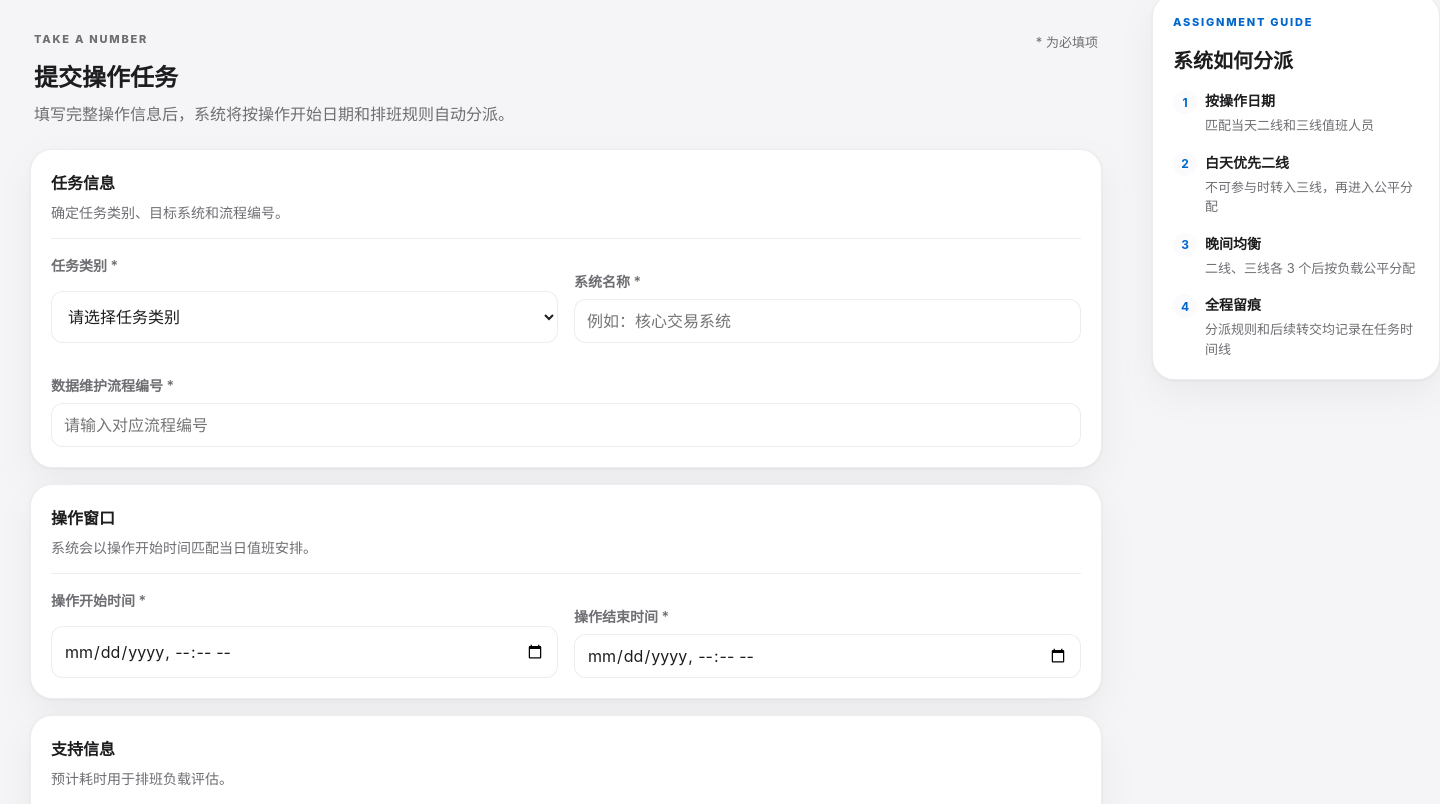
Scenario: TaskCreatePage › requires a process number for data maintenance
Select "数据维护" in the dropdown with test id "category": (304, 317) x1=51 y1=291 x2=558 y2=343
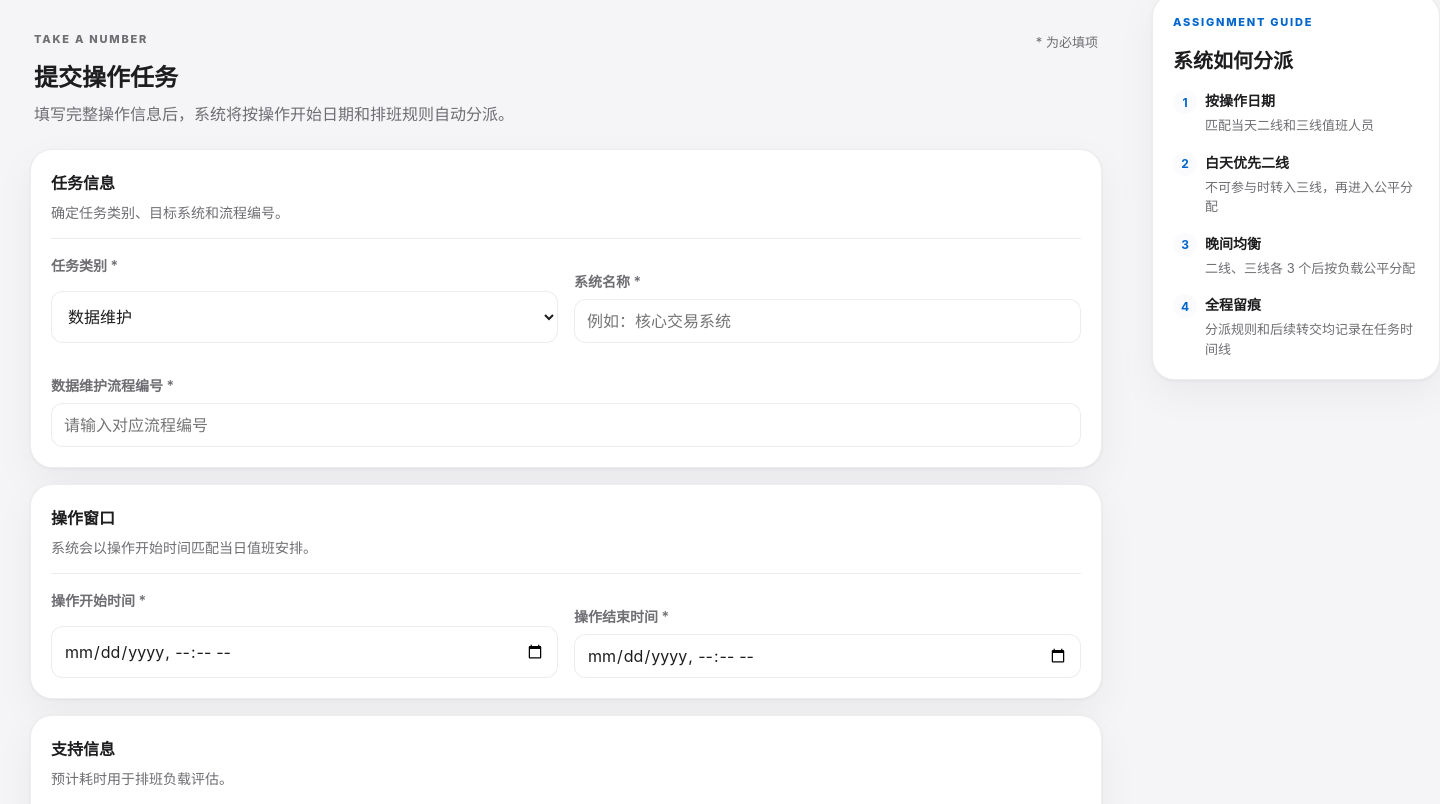
In the field with test id "system-name": (828, 321) x1=574 y1=299 x2=1081 y2=343, type "数据平台"
(page scrolled)
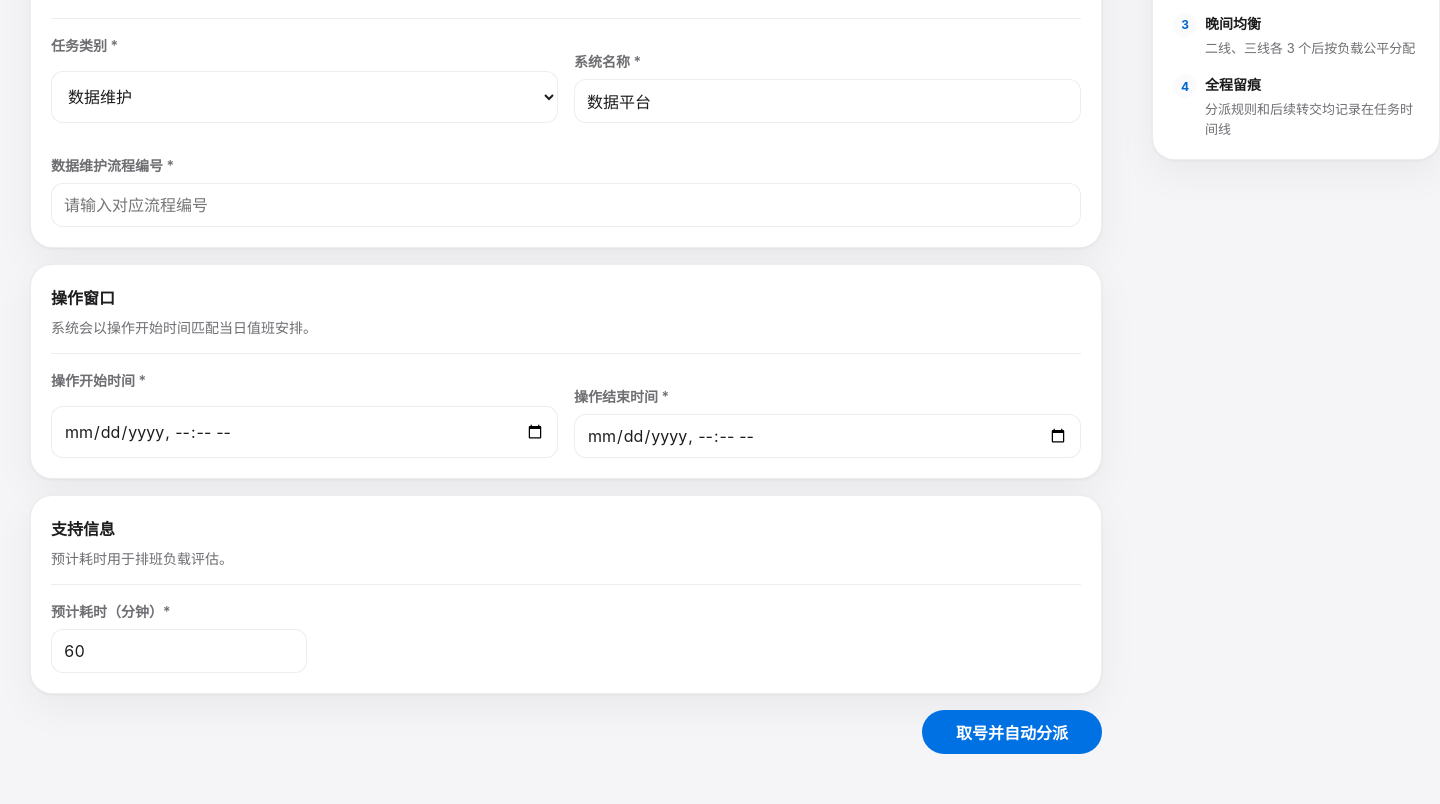
Replace the text in the number field with test id "estimated-minutes" with "45": (179, 651) x1=51 y1=629 x2=307 y2=673
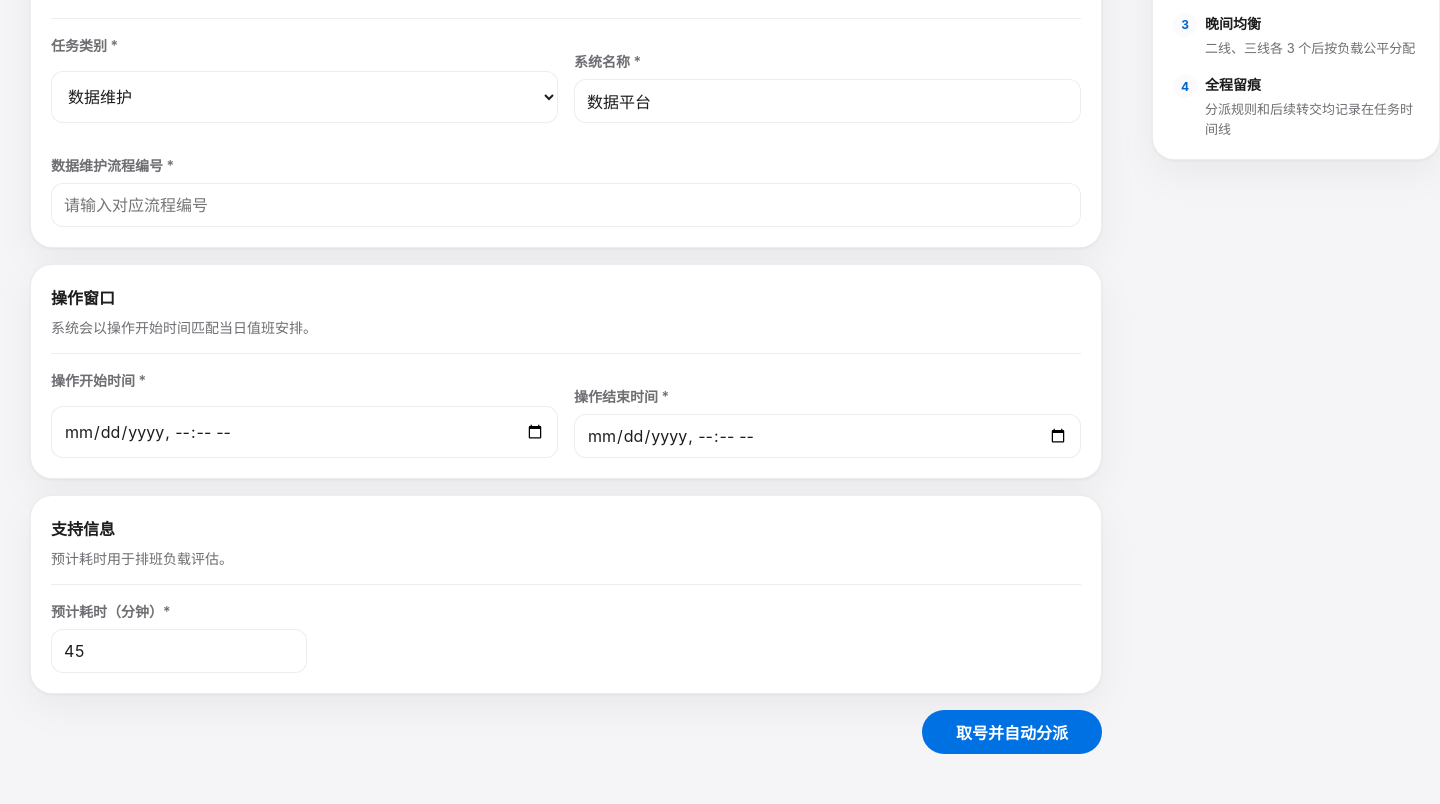
In the field with test id "operation-start": (304, 432) x1=51 y1=406 x2=558 y2=458, type "2026-07-25T20:00"
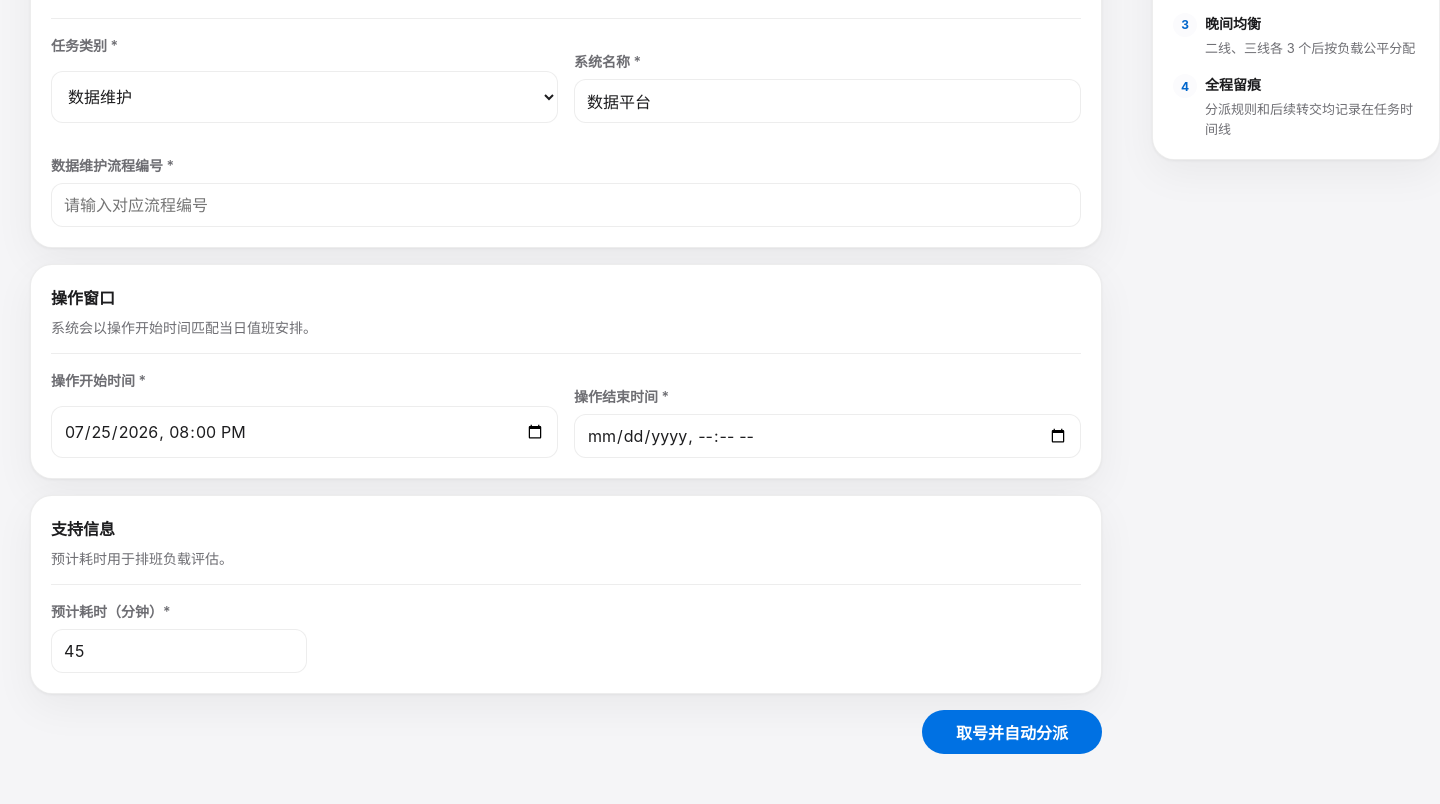
In the field with test id "operation-end": (828, 436) x1=574 y1=414 x2=1081 y2=458, type "2026-07-25T20:45"
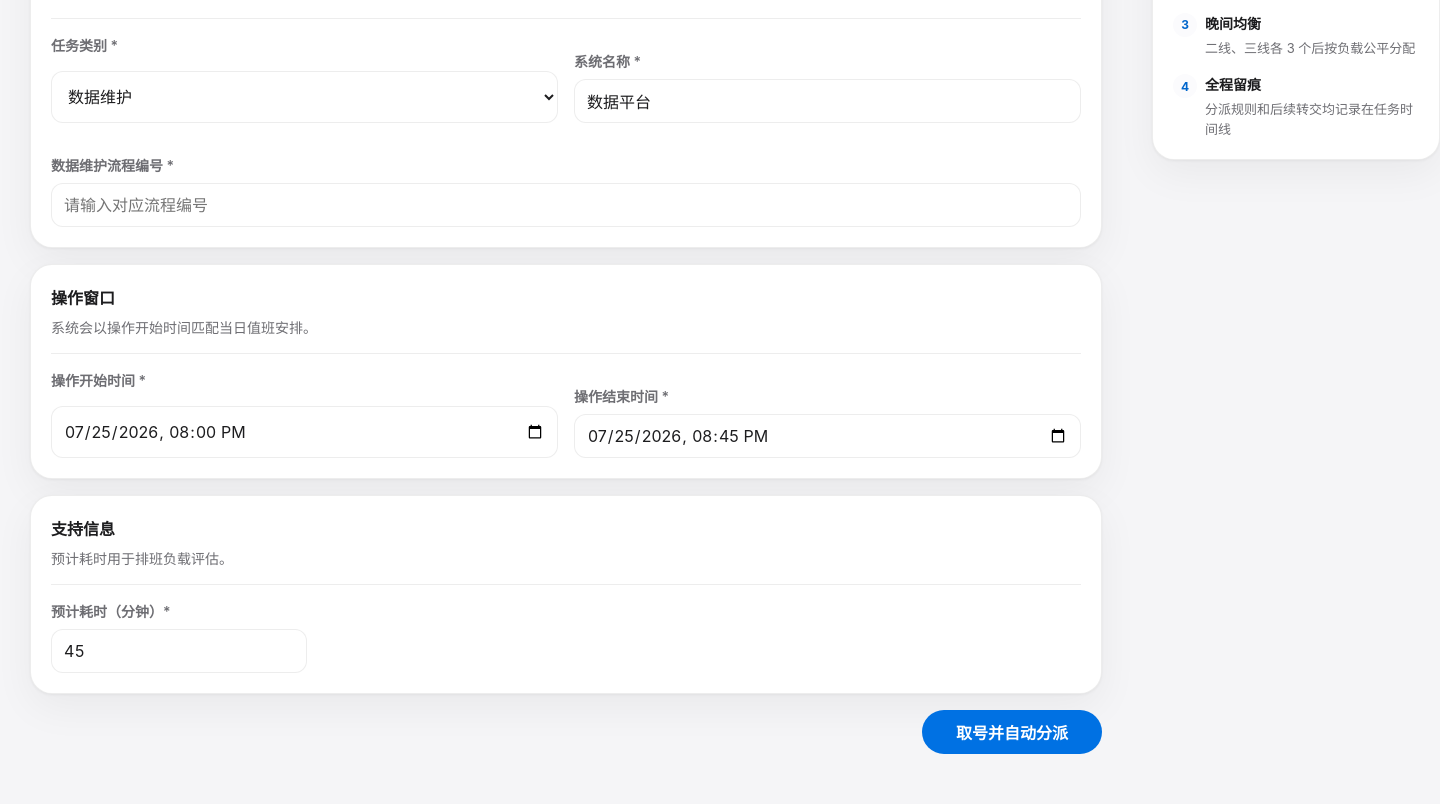
Click the button with test id "submit-task": (1012, 732) x1=922 y1=710 x2=1102 y2=754
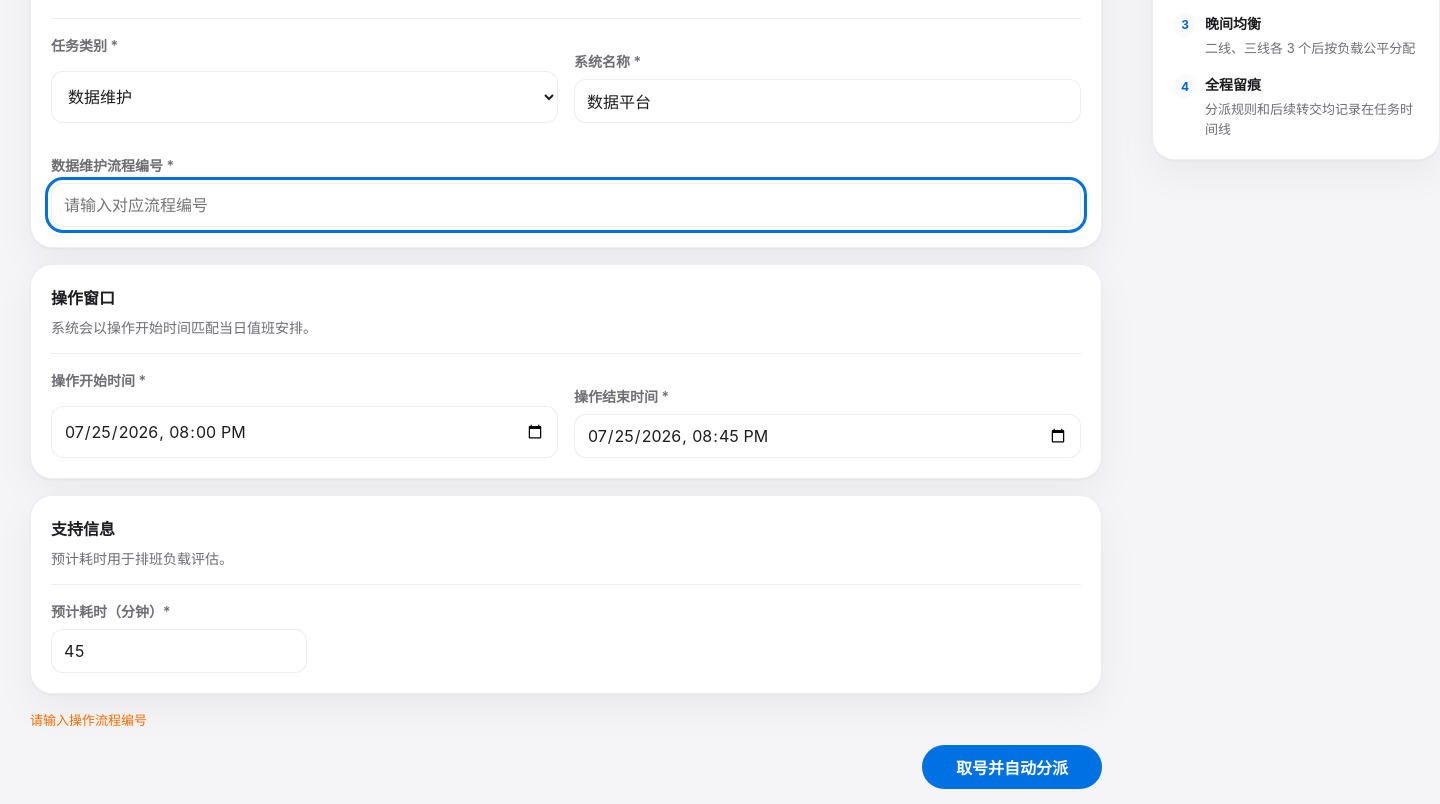
expect the text "请输入操作流程编号" is shown: met, box x1=30 y1=712 x2=147 y2=728
